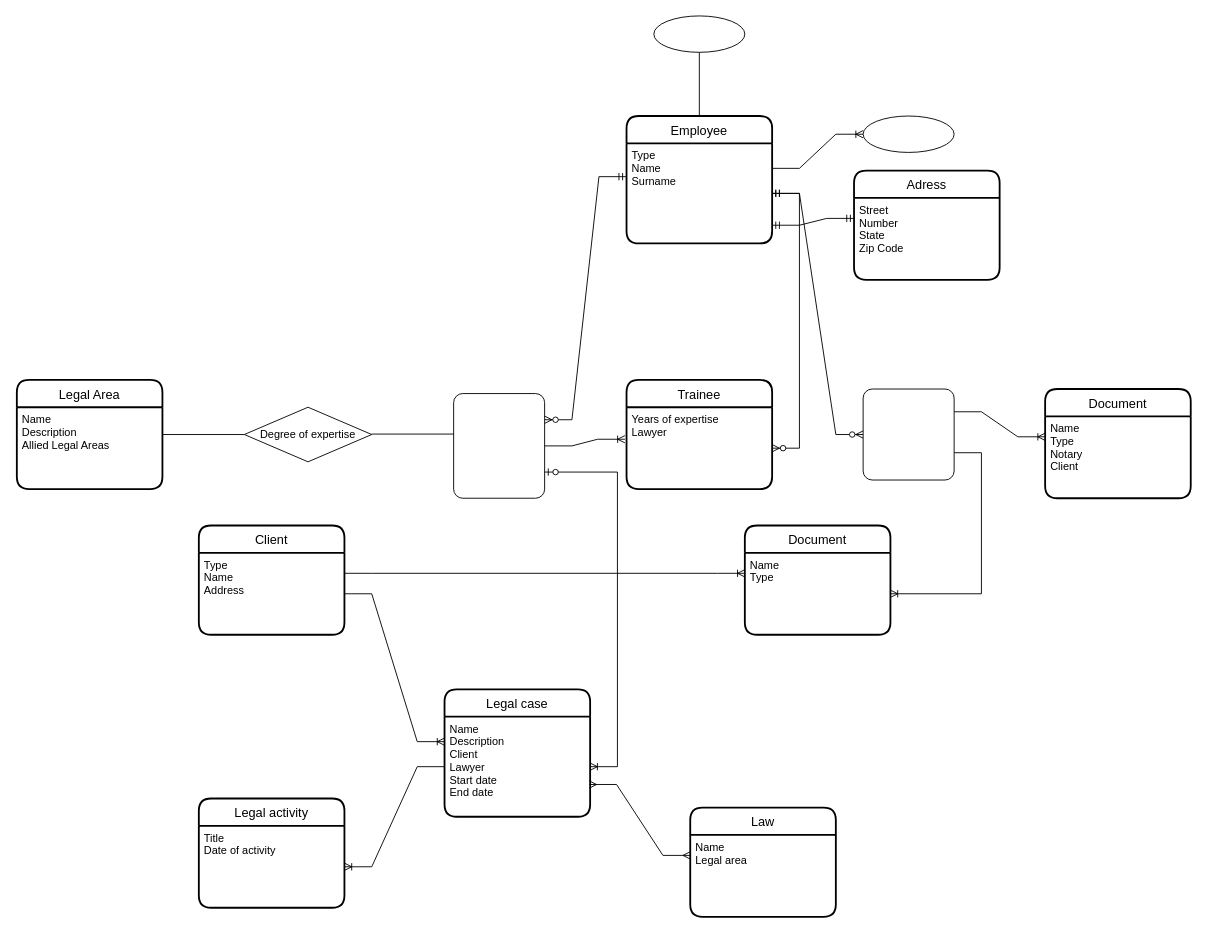
The diagram is 1207 pixels wide and 934 high, and some of its shapes have lost their labels. Each missing label, with the centre of its shape:
Lawyer: point 499,445
Notries: point 908,434
SSN: point 699,33
Telephone Number: point 908,133
